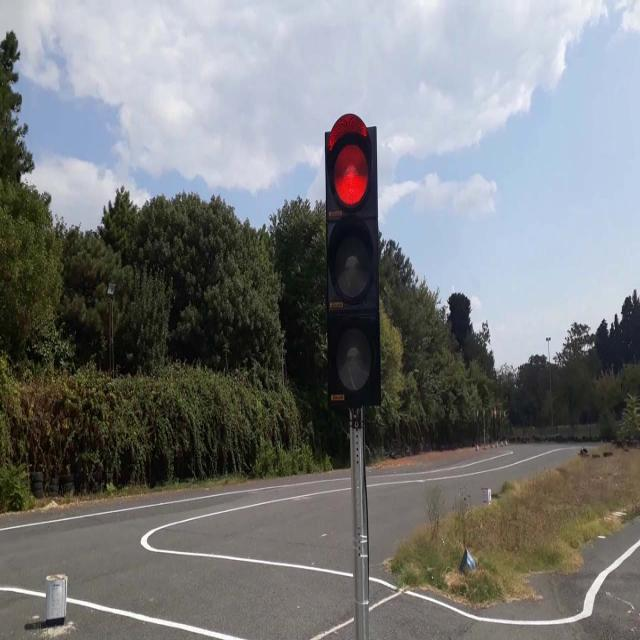kirmizi: (326, 116, 379, 406)
